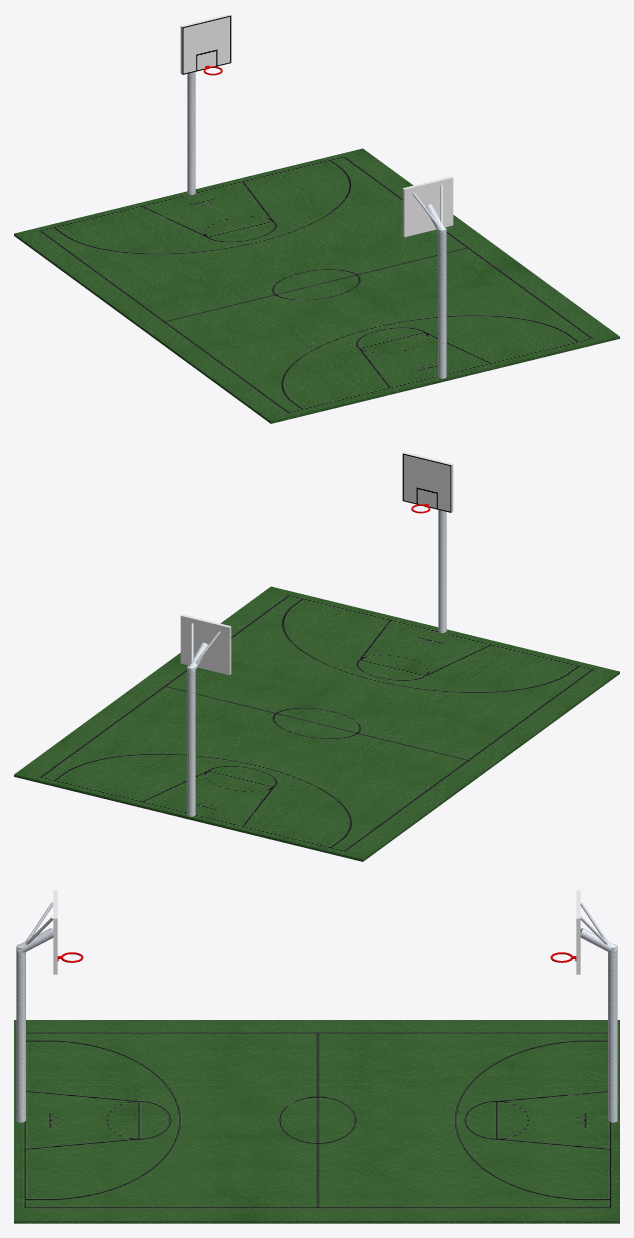
Rendered from Basketball court.FBX.
The picture shows the model from 3 angles, top to bottom: view 1: azimuth 30°, elevation 25°; view 2: azimuth 150°, elevation 25°; view 3: azimuth 270°, elevation 25°; orthographic projection. The views are drawn at different scales.
Parts seen in each view (by area): view 1: Basketball court001; view 2: Basketball court001; view 3: Basketball court001.
Boxes of the visible parts, <box> form: Basketball court001: <box>14,14,619,423</box>; Basketball court001: <box>14,452,619,861</box>; Basketball court001: <box>14,890,619,1223</box>.
Bounding box in the file's own units: 486 × 247 × 620.
